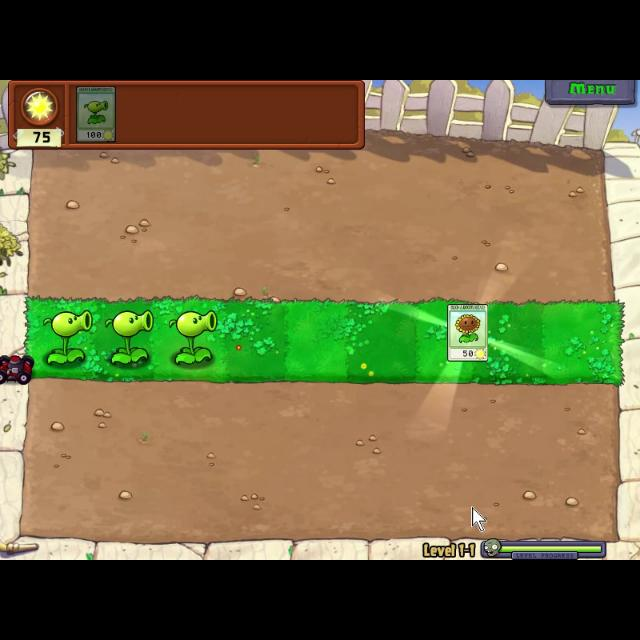Garden: (21, 293, 625, 389)
Menu Button: (546, 80, 636, 106)
Mower: (1, 351, 34, 387)
Peashooter: (76, 85, 118, 142)
Peashooter Seed: (165, 306, 219, 372), (43, 304, 95, 370), (103, 307, 155, 367)
Seed Panel: (6, 80, 368, 152)
